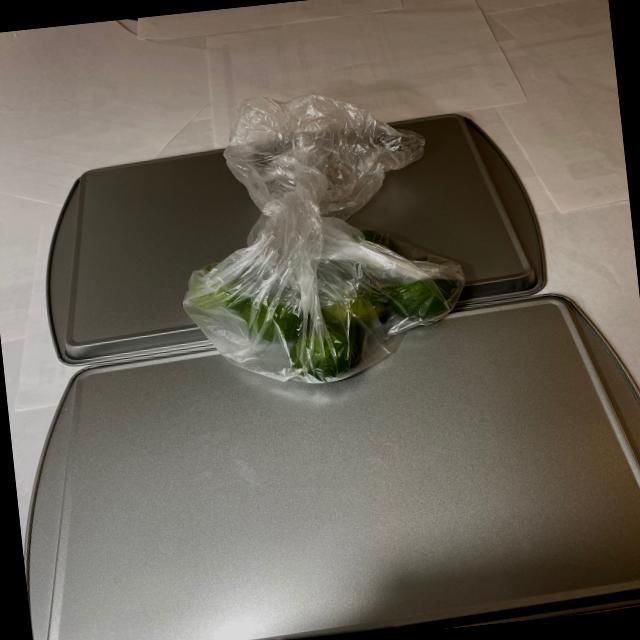lemon: (180, 224, 472, 395)
